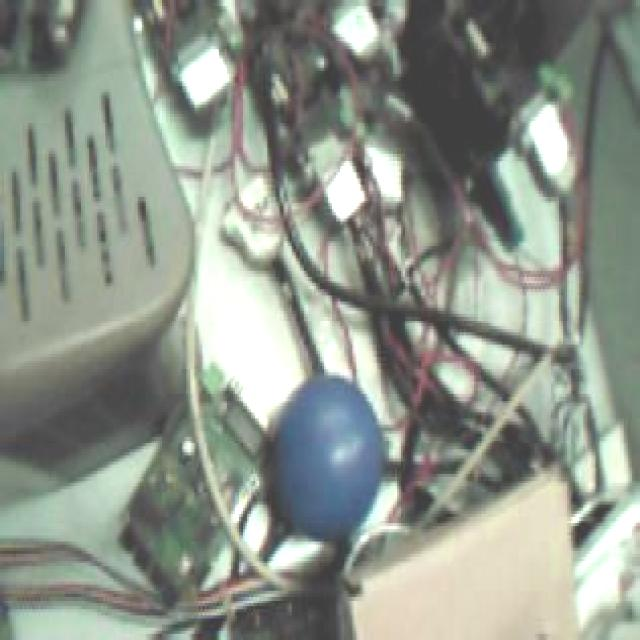BallPurple: (264, 373, 384, 537)
